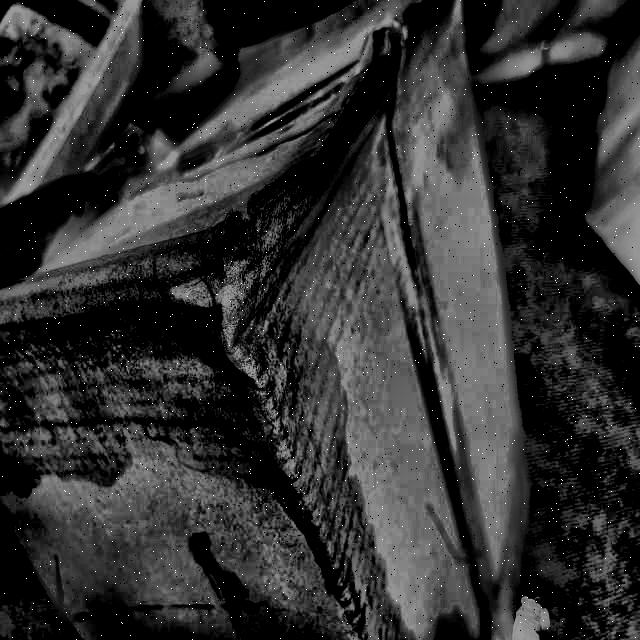box: (0, 1, 538, 640)
hole: (316, 28, 416, 176)
wet: (0, 224, 370, 498)
